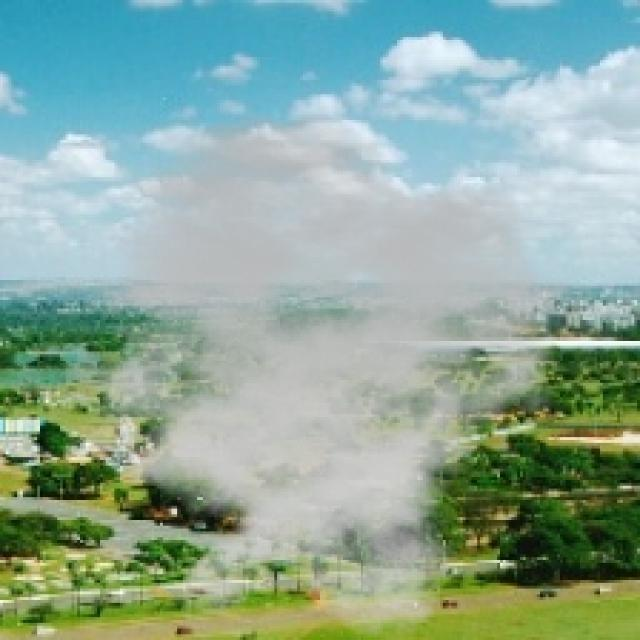smoke: (31, 112, 592, 637)
